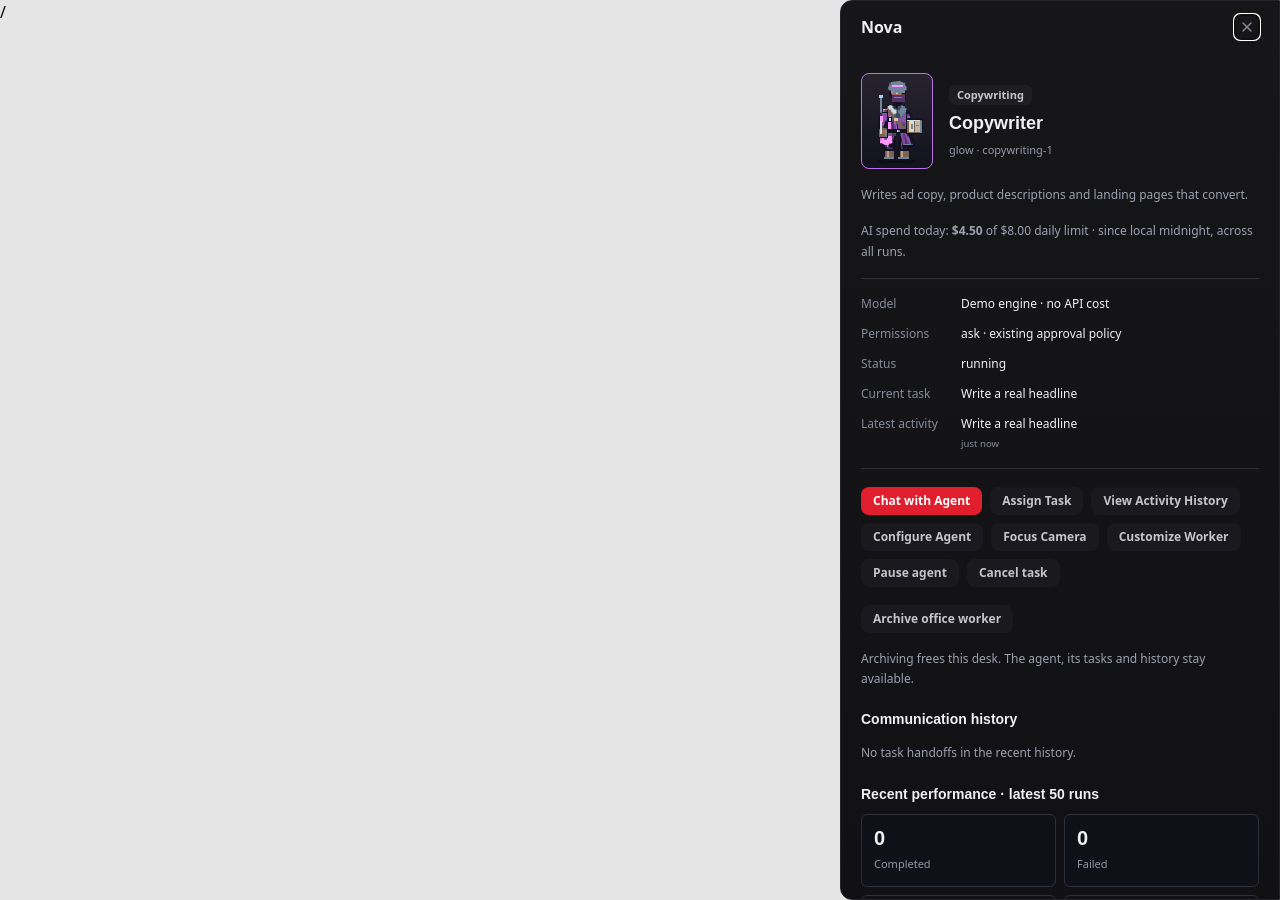
Scenario: inspects real usage and cancels through the existing run endpoint
Expected: the dialog "Nova" is shown, [840,0,1279,899]
Expected: the text "$4.50" is shown, [952,222,983,239]
Click the button "Cancel task" at x=1013, y=573, box [967,559,1060,587]
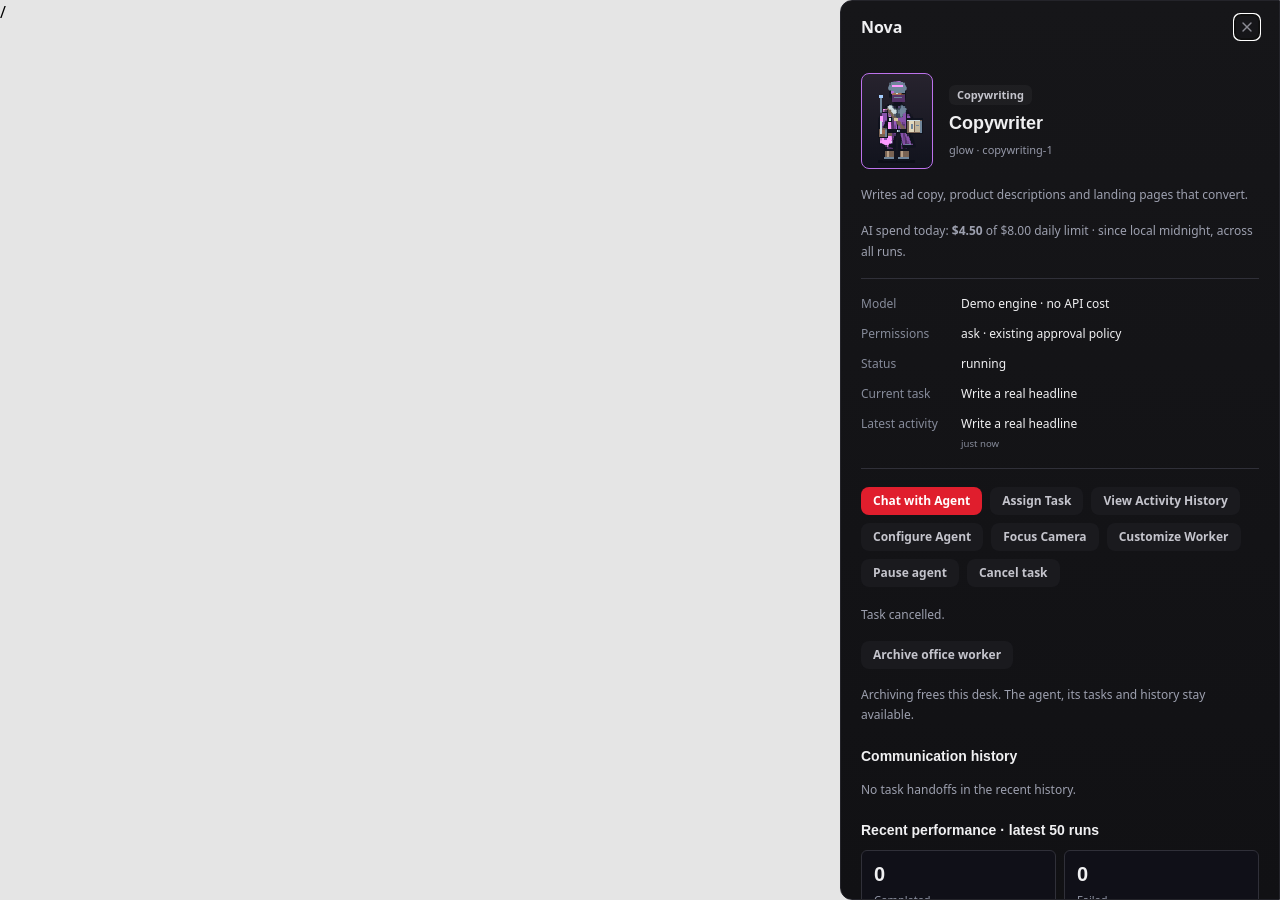
Now the text "Task cancelled." is shown, box [861,606,945,623]
